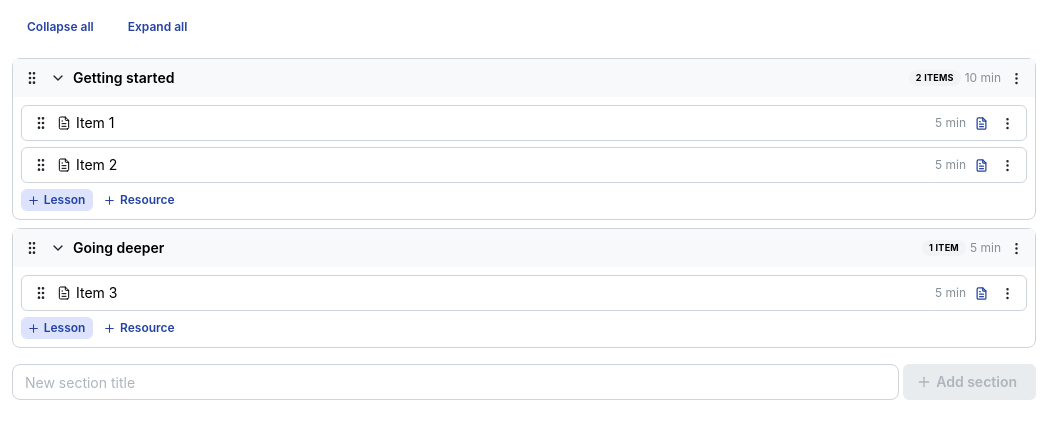
Scenario: CurriculumBuilder › cancels an inline rename on Escape
Click the text "Item 1".
click(95, 122)  # box [76, 114, 114, 131]
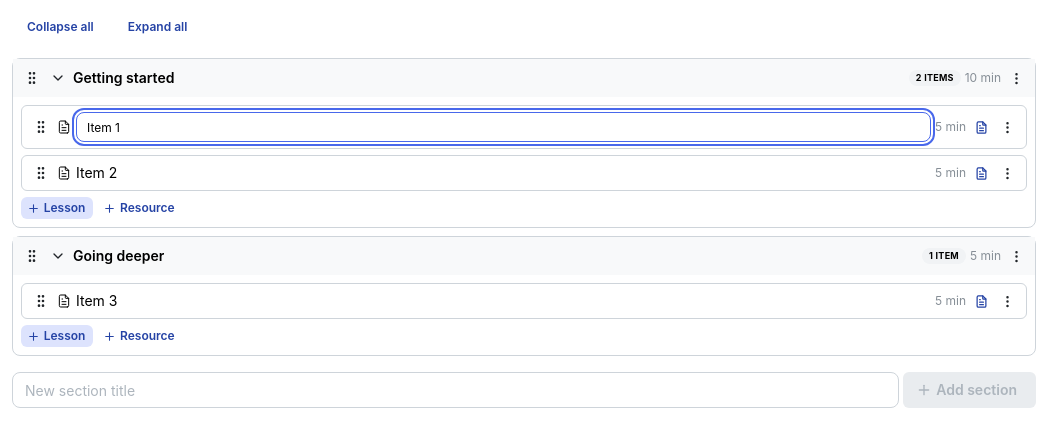
Replace the text in the field named "Item title" with "Discarded" at x=504, y=127, box [76, 112, 931, 142]
Then press Escape
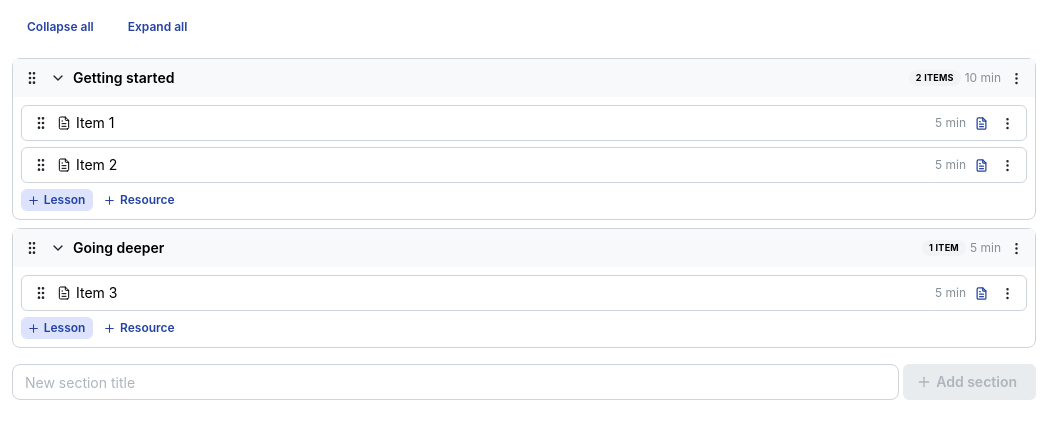
Check: the text "Item 1" is shown, box [76, 114, 114, 131]
